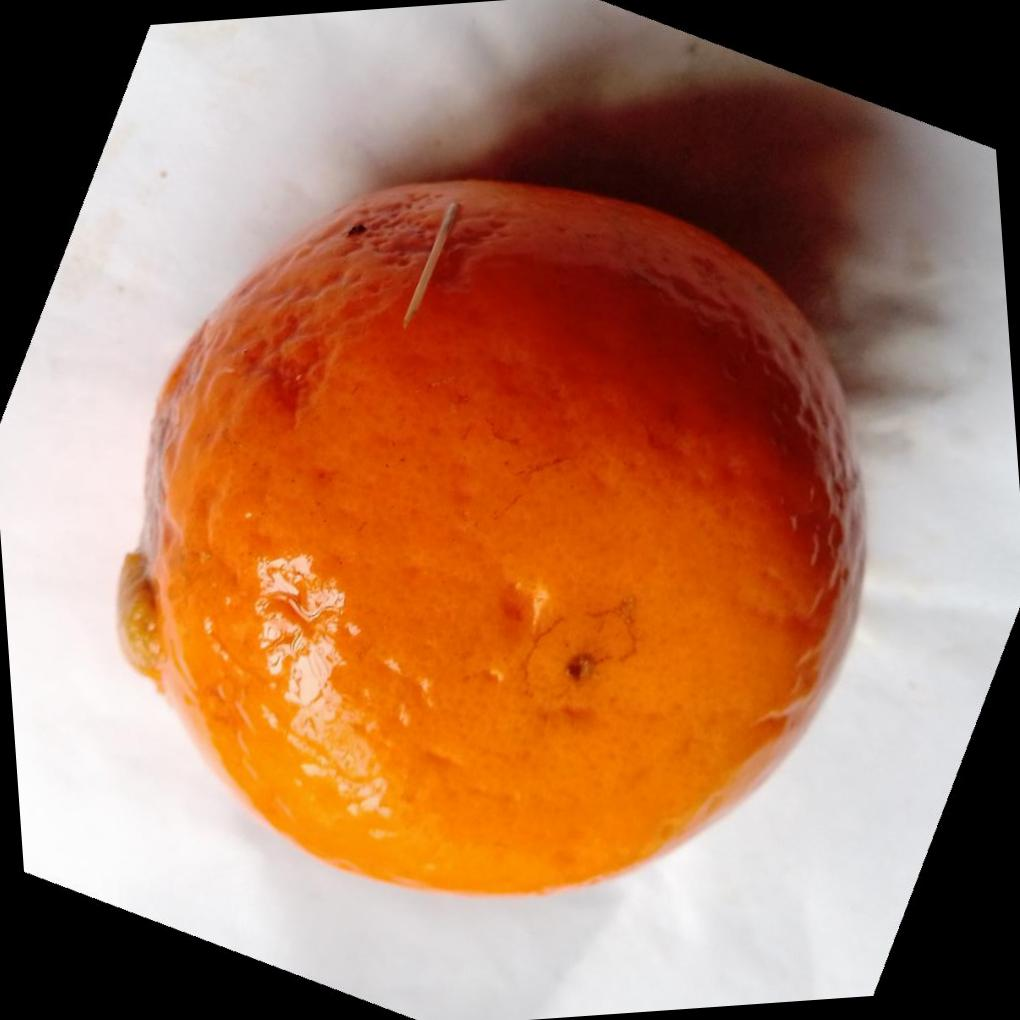FreshOrange: (118, 176, 871, 898)
